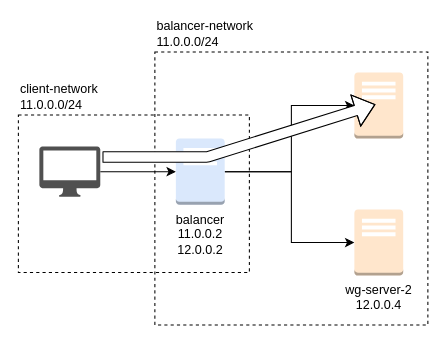
Some shapes in this 446 by 343 pixel diagram are drawn without their labels. The shapes that lost their labels are listed below. From the top down, each one's centre as x and y in pixels, then its label:
At (x=378, y=105): "wg-server-1 12.0.0.3".
At (x=69, y=171): "wg-client 11.0.0.3".
